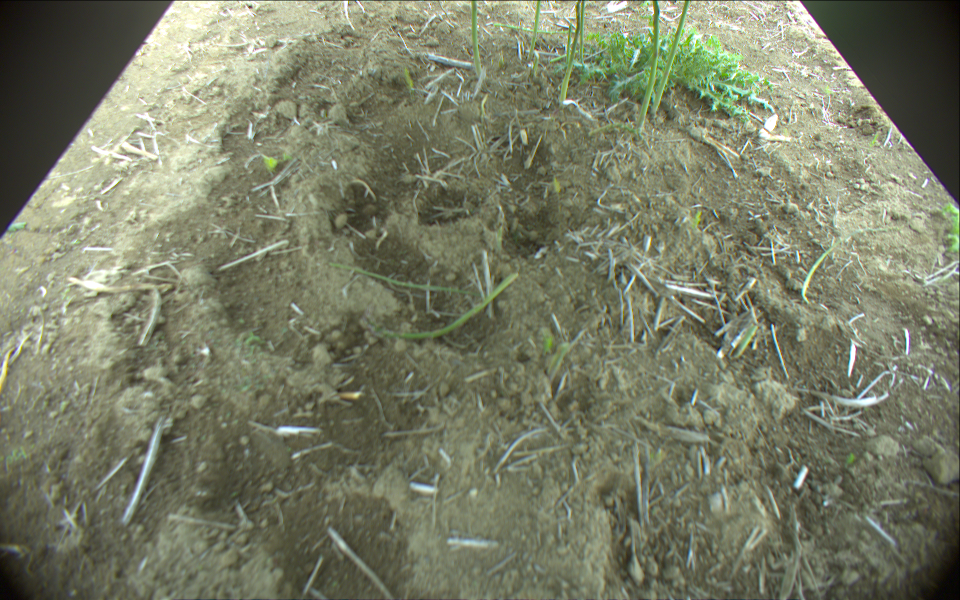aspa: (383, 272, 518, 340), (652, 1, 689, 115), (637, 1, 664, 131), (559, 1, 583, 106), (484, 20, 573, 35), (468, 1, 484, 77), (527, 1, 541, 60), (578, 1, 584, 66), (569, 24, 572, 61)
